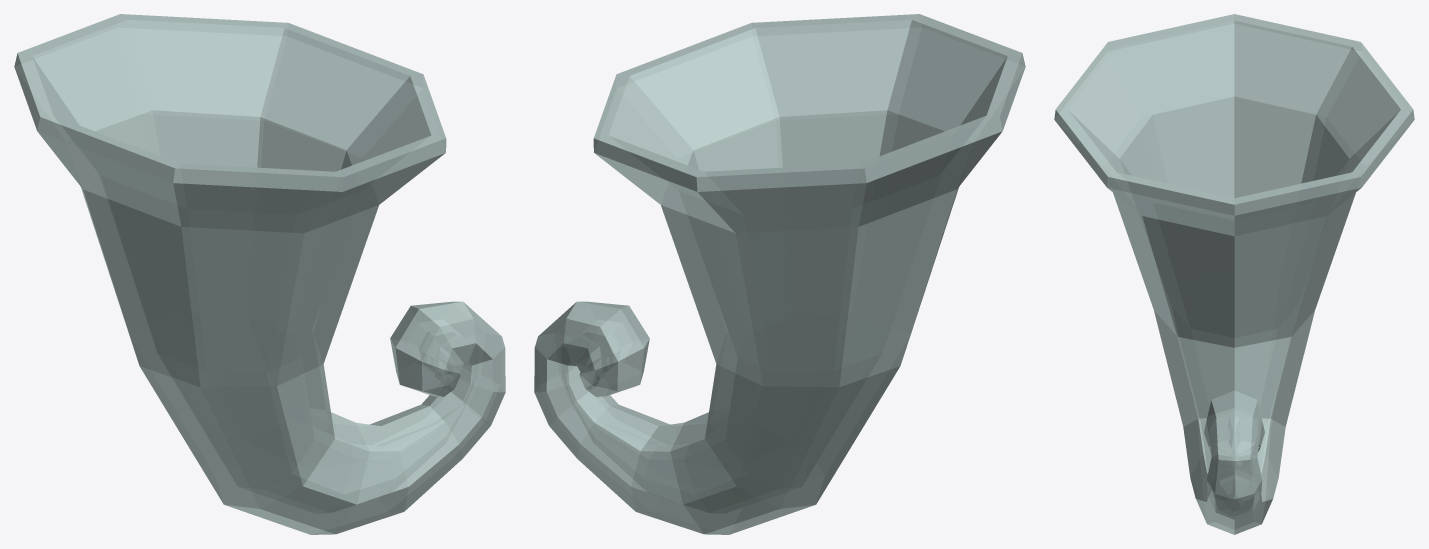
File: Cornucopia.obj
3 renders of one model, left to right at view 1: azimuth 30°, elevation 25°; view 2: azimuth 150°, elevation 25°; view 3: azimuth 270°, elevation 25°, orthographic. The views are drawn at different scales.
Parts seen in each view (by area): view 1: Circle; view 2: Circle; view 3: Circle.
Part boxes in pixels (bbox=[...]): Circle: bbox=[14, 14, 505, 534]; Circle: bbox=[534, 14, 1025, 534]; Circle: bbox=[1054, 14, 1414, 534].
Bounding box in the file's own units: 9.06 × 9.02 × 7.59.
